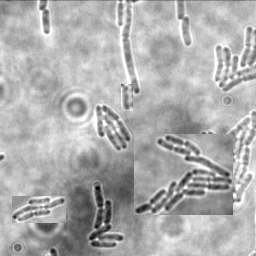Dividing: (123, 1, 142, 95), (41, 8, 52, 35)
Microcolony: (134, 134, 233, 215), (200, 109, 255, 205), (212, 25, 255, 94), (89, 184, 126, 248), (96, 103, 132, 150), (12, 196, 66, 223), (182, 16, 193, 48)
Rod: (121, 84, 133, 111)
